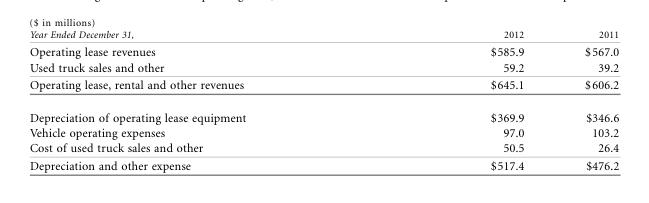table: (28, 29, 618, 172)
table column: (28, 29, 367, 172), (367, 29, 553, 172), (553, 29, 618, 172)
table column header: (28, 29, 618, 42)
table row: (28, 75, 618, 101), (28, 101, 618, 125), (28, 42, 618, 59), (28, 59, 618, 75), (28, 140, 618, 156), (28, 156, 618, 172), (28, 125, 618, 140), (28, 29, 618, 42)
